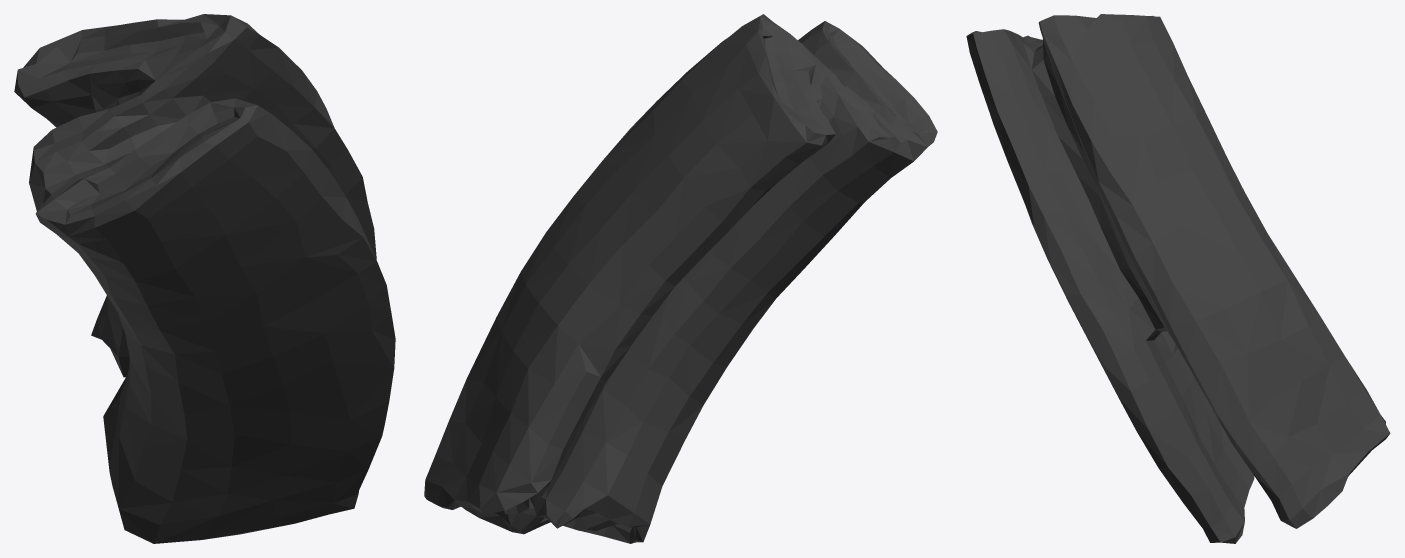
Rendered from Lower_M1_1.glb.
3 views of the same model, side by side, from view 1: azimuth 30°, elevation 25°; view 2: azimuth 150°, elevation 25°; view 3: azimuth 270°, elevation 25° (orthographic). The views are drawn at different scales.
Parts seen in each view (by area): view 1: Lower_M1_1; view 2: Lower_M1_1; view 3: Lower_M1_1.
Boxes of the visible parts, x1,y1,x2,y2 form: Lower_M1_1: (14,14,395,543); Lower_M1_1: (424,14,937,543); Lower_M1_1: (966,14,1390,543).
Size of the model in its own units: 0.6154 by 0.7562 by 0.6455.
Materials: 1 (1 with a texture image).
